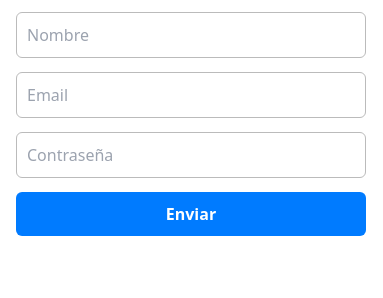
Test: Form › muestra un mensaje de error si los campos están vacíos
The image size is (383, 298).
Click the button "Enviar".
click(191, 214)  # box [16, 192, 366, 236]
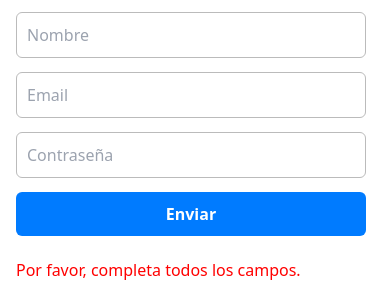
expect the text "Por favor, completa todos los campos." is shown: met, box [16, 259, 301, 281]
